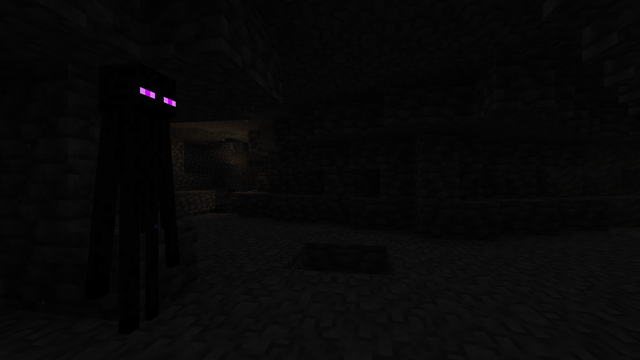endermens: (89, 50, 181, 342)
